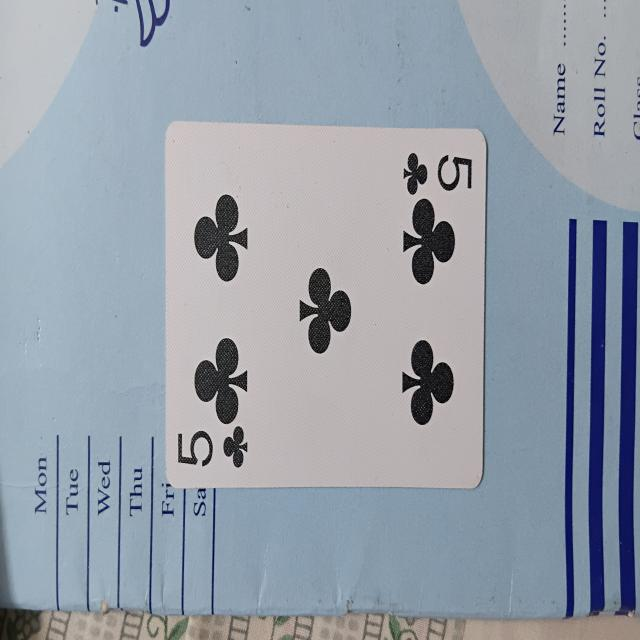5C: (163, 120, 487, 489)
